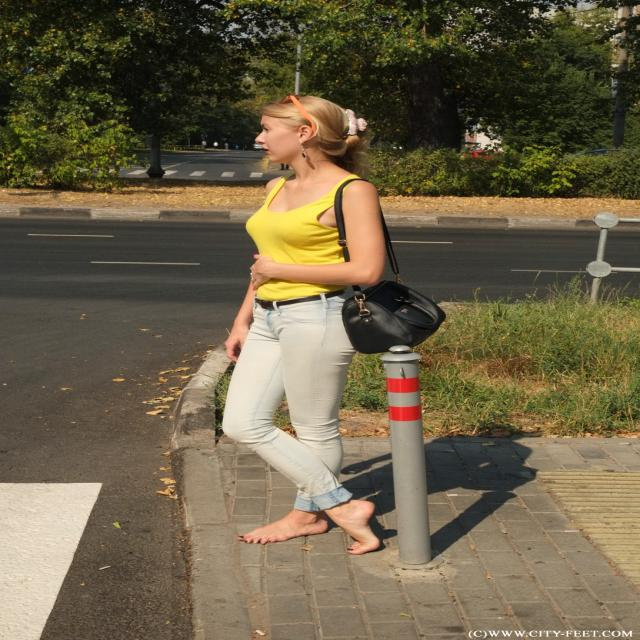No Safety Boots: (236, 516, 329, 544), (346, 500, 381, 554)
